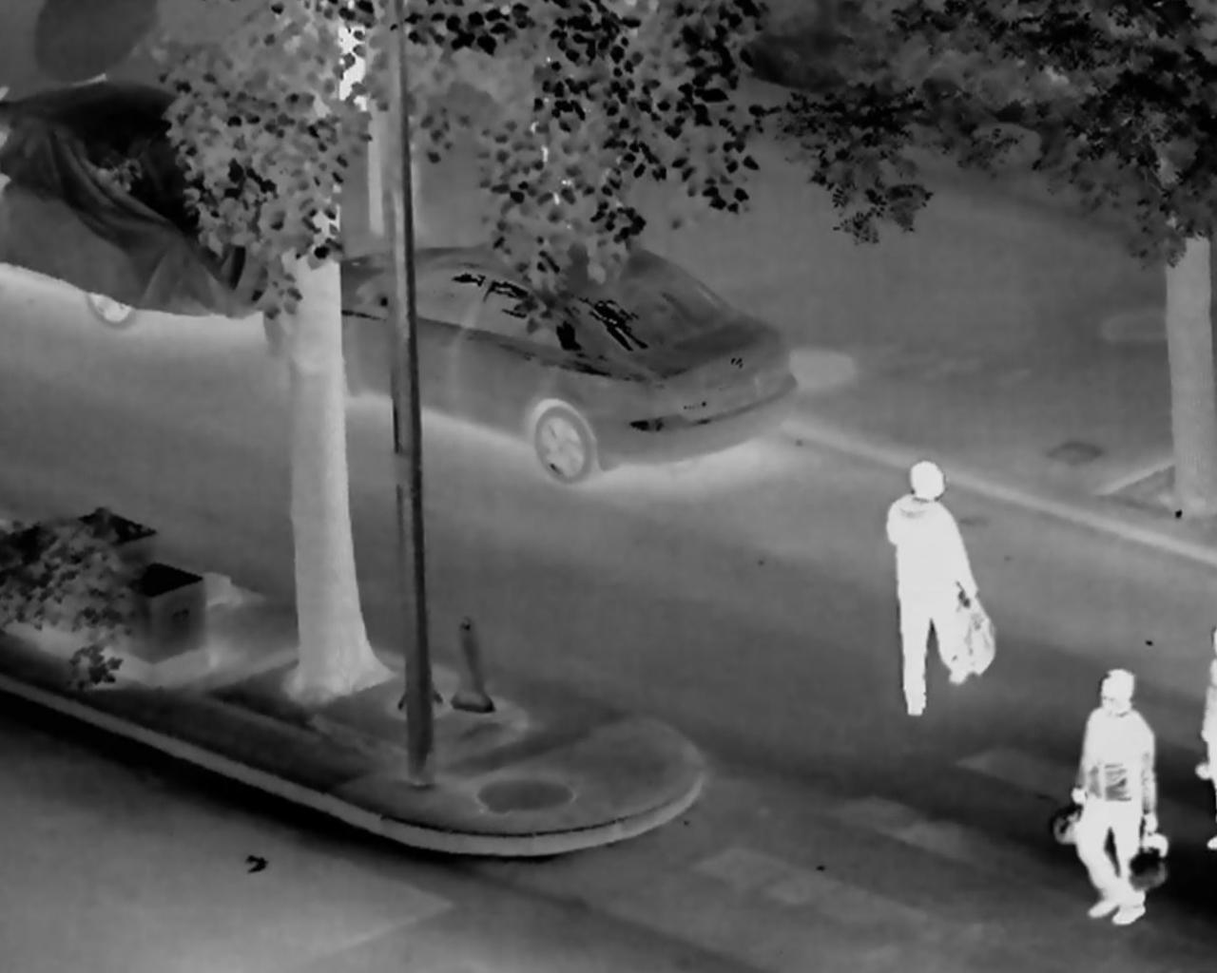person: (1050, 668, 1169, 923), (883, 459, 995, 714)
